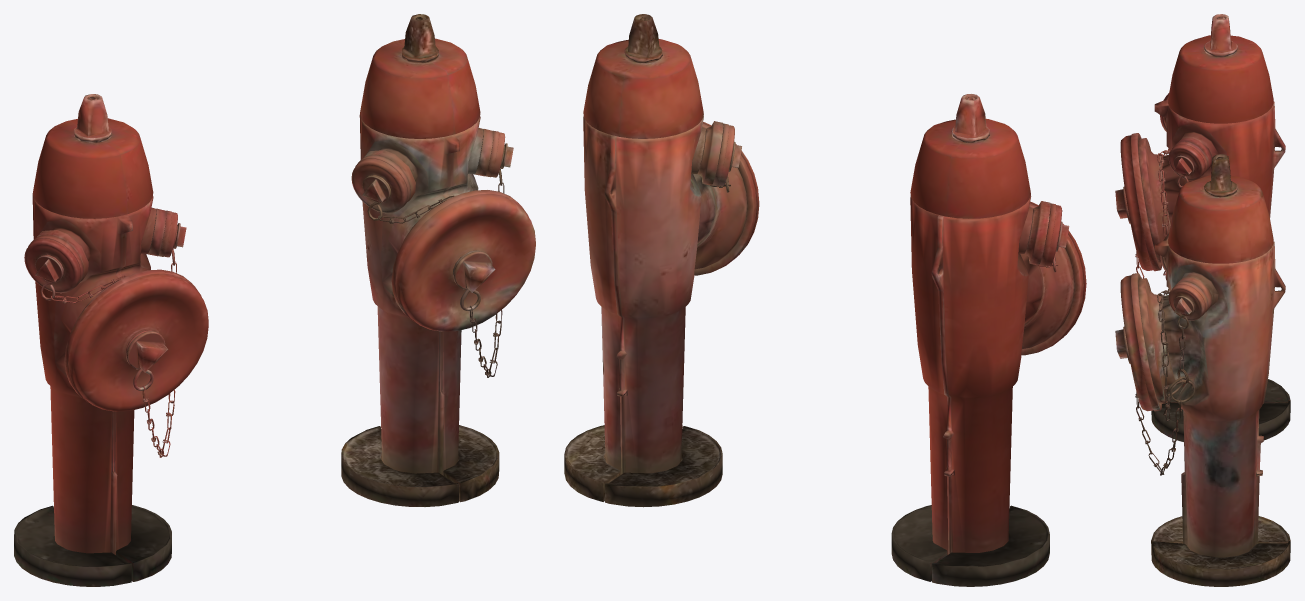
The model's file is fire_hydrant.glb.
3 renders of one model, left to right at view 1: azimuth 30°, elevation 25°; view 2: azimuth 150°, elevation 25°; view 3: azimuth 270°, elevation 25°, orthographic. The views are drawn at different scales.
Visible parts, largest first — view 1: fire_hydrant_aged, fire_hydrant, fire_hydrant_cap_01, fire_hydrant_cap_01_aged, fire_hydrant_cap_03, fire_hydrant_cap_03_aged, fire_hydrant_chain, fire_hydrant_chain_aged, fire_hydrant_cap_02, fire_hydrant_cap_02_aged; view 2: fire_hydrant, fire_hydrant_aged, fire_hydrant_cap_01, fire_hydrant_cap_01_aged, fire_hydrant_cap_03, fire_hydrant_cap_03_aged; view 3: fire_hydrant_aged, fire_hydrant, fire_hydrant_cap_01, fire_hydrant_cap_01_aged, fire_hydrant_chain_aged, fire_hydrant_cap_02_aged, fire_hydrant_cap_02, fire_hydrant_chain.
Part boxes in pixels (x1=…): fire_hydrant_aged: x1=341, y1=14, x2=499, y2=506; fire_hydrant: x1=14, y1=94, x2=171, y2=586; fire_hydrant_cap_01: x1=64, y1=269, x2=208, y2=411; fire_hydrant_cap_01_aged: x1=391, y1=190, x2=535, y2=331; fire_hydrant_cap_03: x1=24, y1=235, x2=83, y2=293; fire_hydrant_cap_03_aged: x1=351, y1=155, x2=410, y2=213; fire_hydrant_chain: x1=40, y1=224, x2=177, y2=457; fire_hydrant_chain_aged: x1=367, y1=145, x2=504, y2=377; fire_hydrant_cap_02: x1=158, y1=210, x2=186, y2=257; fire_hydrant_cap_02_aged: x1=485, y1=130, x2=513, y2=177; fire_hydrant: x1=891, y1=94, x2=1074, y2=586; fire_hydrant_aged: x1=564, y1=14, x2=747, y2=507; fire_hydrant_cap_01: x1=1021, y1=201, x2=1086, y2=355; fire_hydrant_cap_01_aged: x1=694, y1=122, x2=759, y2=275; fire_hydrant_cap_03: x1=1039, y1=203, x2=1069, y2=266; fire_hydrant_cap_03_aged: x1=712, y1=123, x2=741, y2=186; fire_hydrant_aged: x1=1138, y1=154, x2=1290, y2=586; fire_hydrant: x1=1138, y1=14, x2=1290, y2=441; fire_hydrant_cap_01: x1=1115, y1=133, x2=1161, y2=271; fire_hydrant_cap_01_aged: x1=1115, y1=273, x2=1161, y2=411; fire_hydrant_chain_aged: x1=1135, y1=289, x2=1195, y2=475; fire_hydrant_cap_02_aged: x1=1168, y1=281, x2=1208, y2=320; fire_hydrant_cap_02: x1=1168, y1=141, x2=1208, y2=180; fire_hydrant_chain: x1=1135, y1=149, x2=1193, y2=280.
Size of the model in its own units: 0.8746 by 0.7994 by 0.3173.
Materials: 2 (2 with a texture image).
